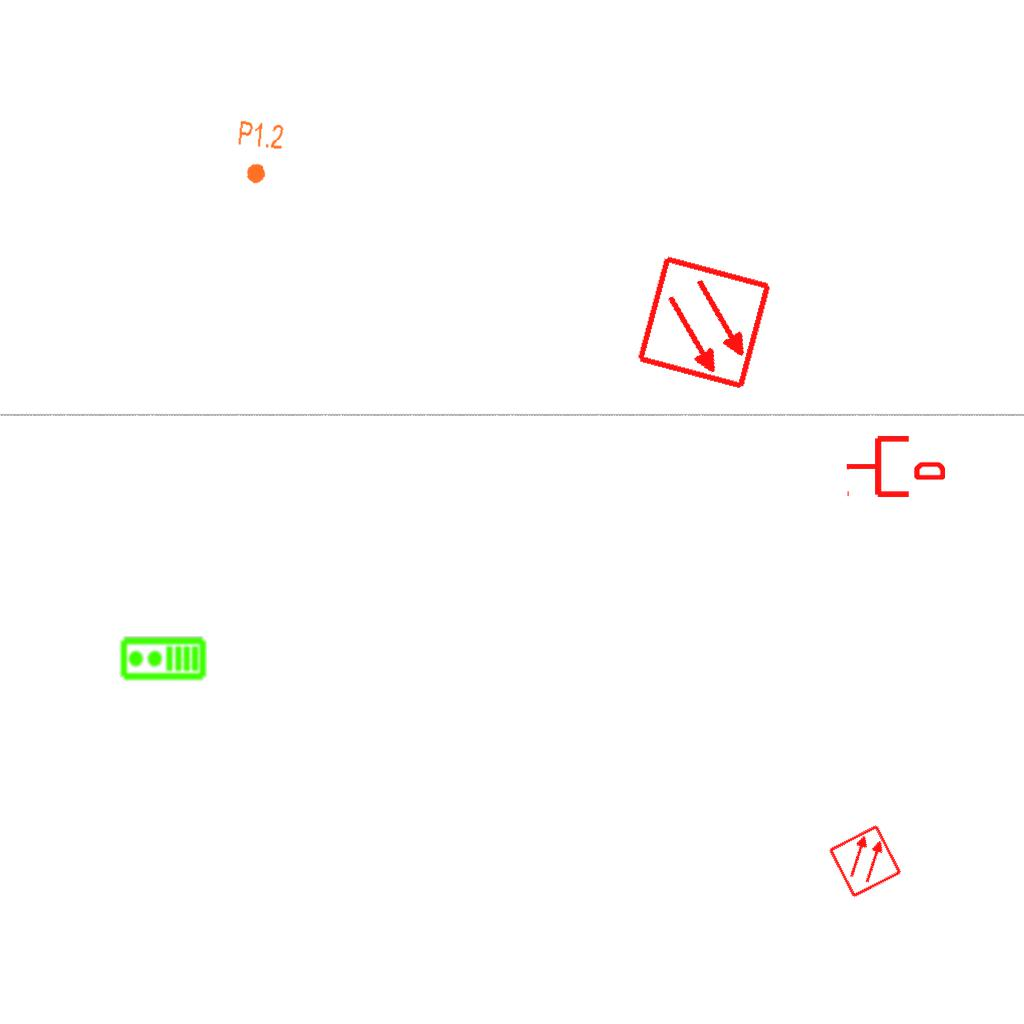Datenanschluss_einfach: (845, 432, 945, 501)
Downlight_LED_Einbauleuchten_Flur: (232, 118, 286, 188)
Gegensprechanlage_mit_Video: (119, 636, 207, 683)
RMO_Rauchmelder_optischer: (635, 253, 774, 392), (827, 823, 903, 899)
